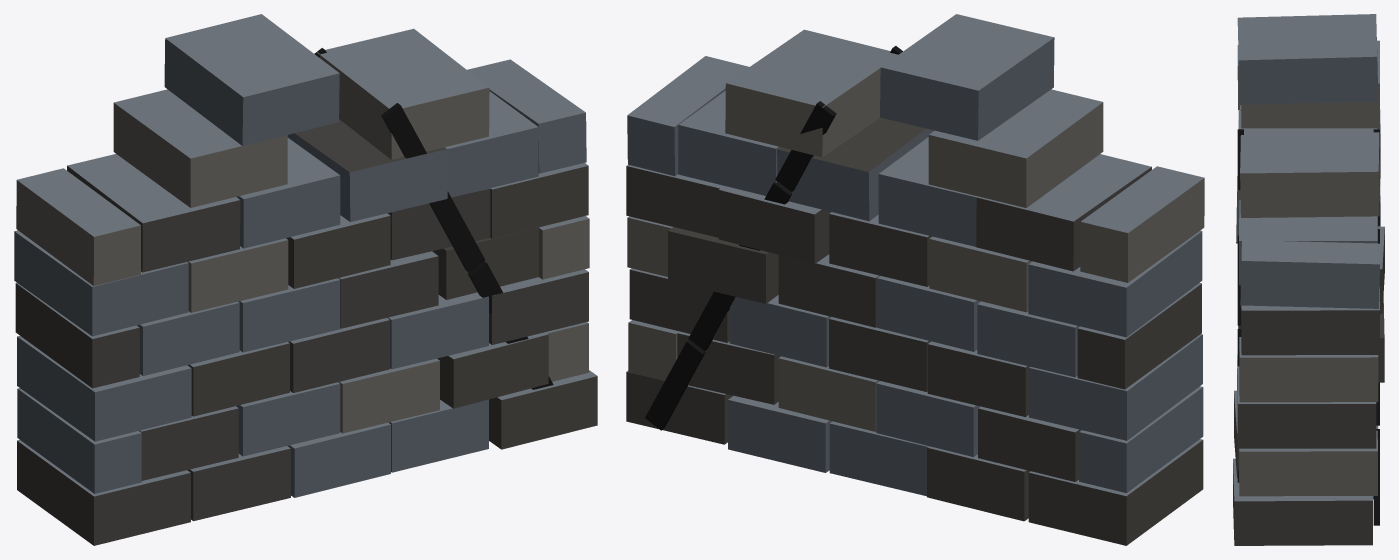
Rendered from wall-broken.glb.
3 views of the same model, side by side, from view 1: azimuth 30°, elevation 25°; view 2: azimuth 150°, elevation 25°; view 3: azimuth 270°, elevation 25° (orthographic). The views are drawn at different scales.
Parts seen in each view (by area): view 1: WallBroken; view 2: WallBroken; view 3: WallBroken.
Part boxes in pixels (box(x1,y1,x2,y2)): WallBroken: box(14, 14, 597, 545); WallBroken: box(626, 14, 1204, 545); WallBroken: box(1233, 14, 1384, 545).
Size of the model in its own units: 1.51 by 1.2 by 0.4384.
1 material, 1 textured.
